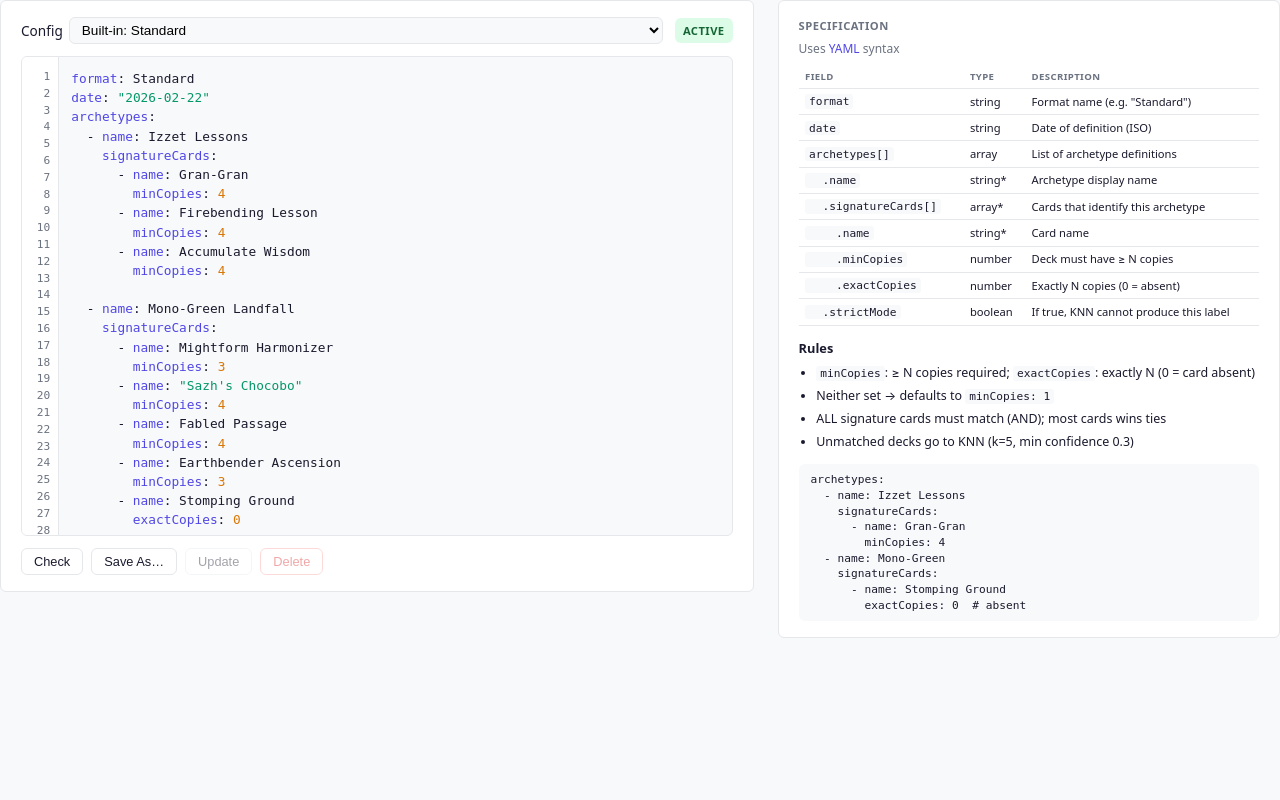
ArchetypeEditor component › check button shows validation result
Step 1. Click the button "Check" → coordinates (52, 561), box [21,548,83,575]
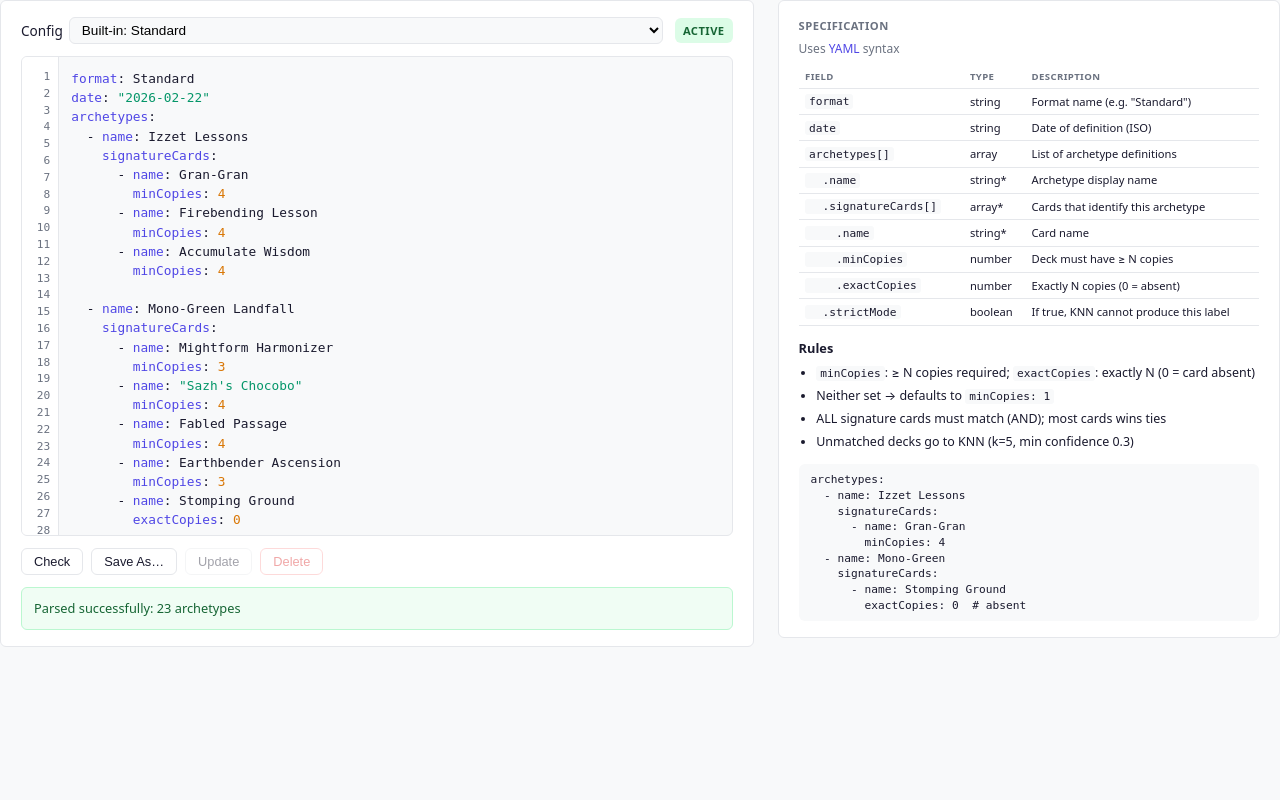
Check: the element showing "Parsed successfully: 23 archetypes" is shown, box [21,587,733,630]
